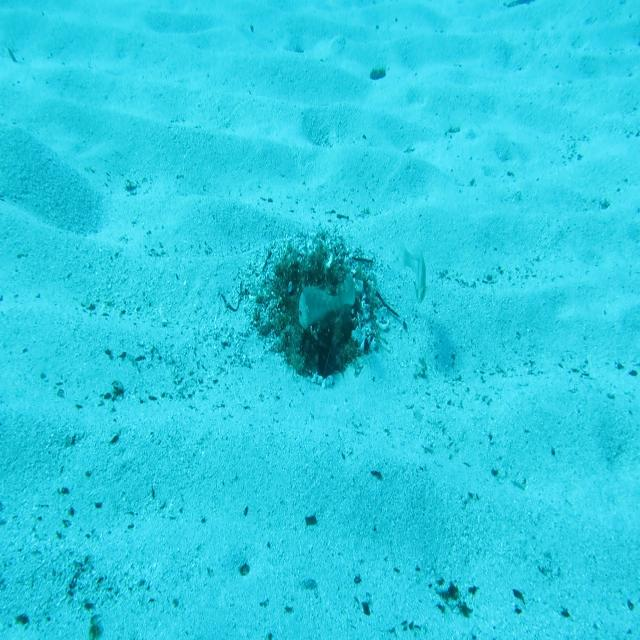DAN_CIRC: (298, 268, 345, 342)
female: (394, 242, 428, 305)
nest: (247, 220, 395, 366)
other_fish: (336, 273, 358, 309)
